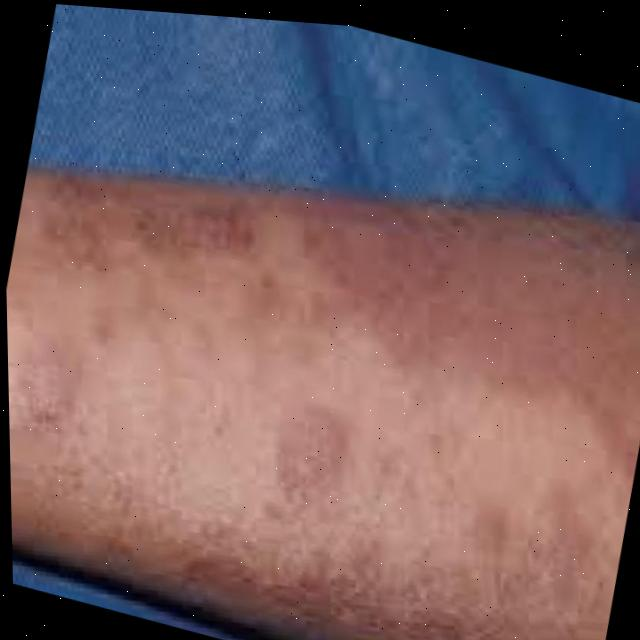Eczema: (2, 109, 640, 640)
